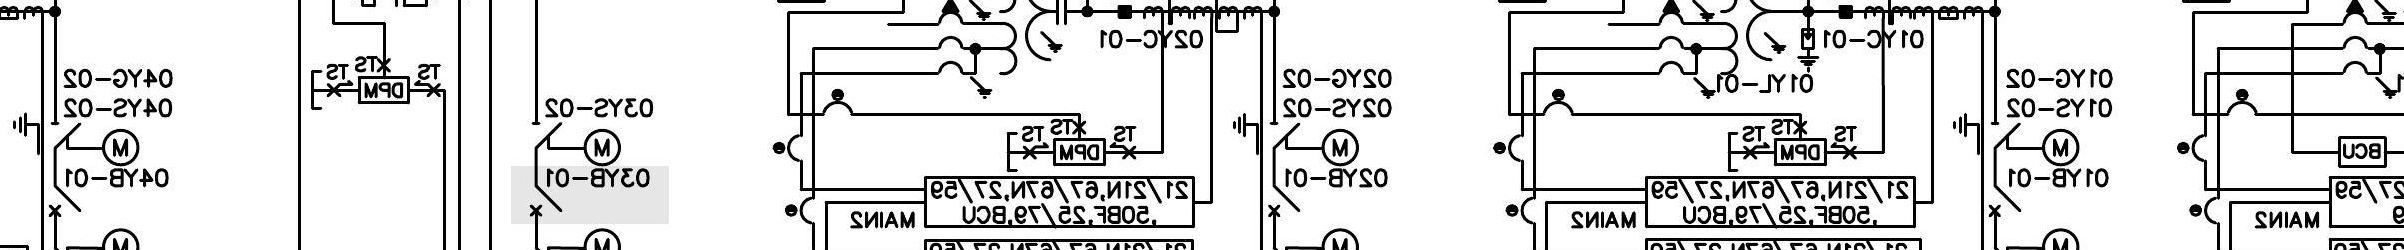115_1way_ds_w_motor: (494, 112, 621, 167)
115_3ways_ds_w_motor: (1952, 112, 2081, 167), (1231, 112, 1360, 167), (12, 112, 141, 167)
115_breaker: (1989, 184, 2022, 218), (529, 184, 563, 218), (49, 184, 81, 218), (1268, 186, 1300, 218)
115_la: (1797, 28, 1820, 74)
BCU: (2337, 135, 2387, 169)
DPM: (1053, 138, 1107, 167), (357, 75, 411, 104), (1774, 138, 1828, 166)
